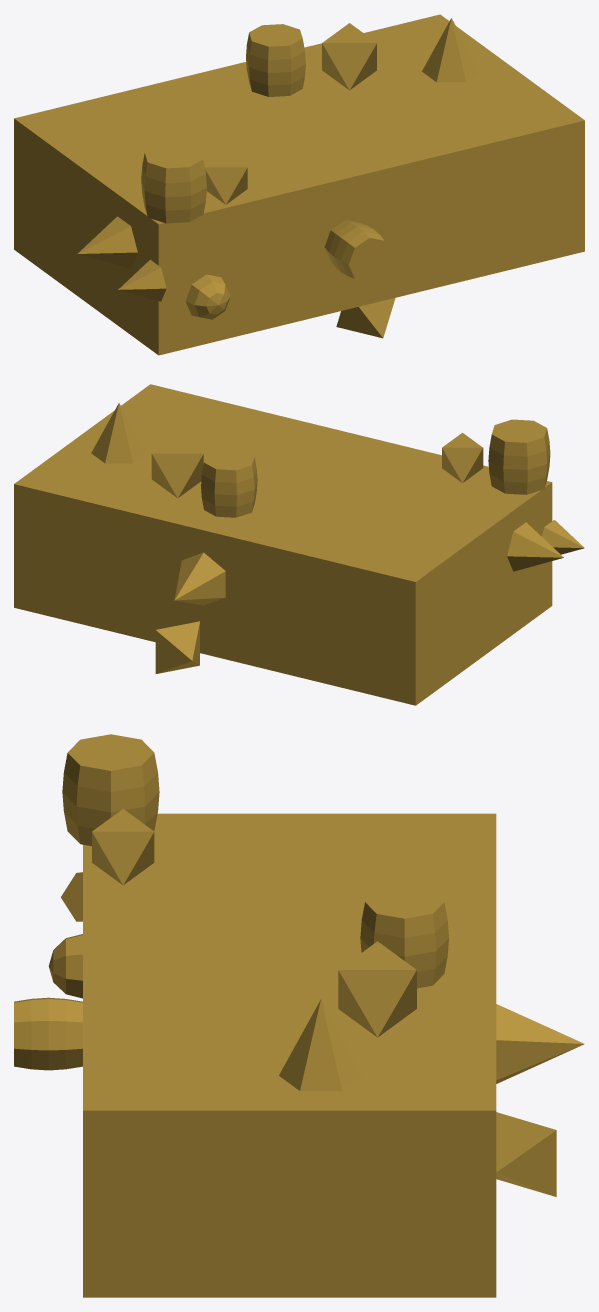
Rendered from object03_medium.glb.
3 renders of one model, top to bottom at view 1: azimuth 30°, elevation 25°; view 2: azimuth 150°, elevation 25°; view 3: azimuth 270°, elevation 25°, orthographic. The views are drawn at different scales.
Parts seen in each view (by area): view 1: object03_medium; view 2: object03_medium; view 3: object03_medium.
Part boxes in pixels (x1,y1,x2,y2): object03_medium: (14,14,584,355); object03_medium: (14,384,584,705); object03_medium: (14,734,584,1297).
Size of the model in its own units: 3.78 by 1.73 by 2.76.
